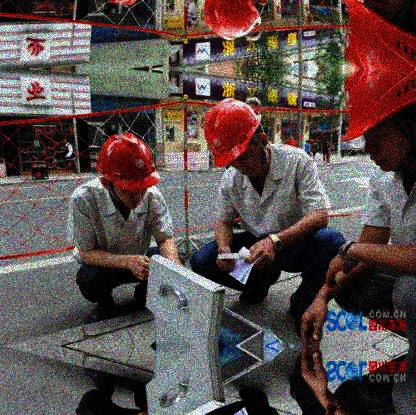helmet: (341, 69, 416, 171), (204, 98, 274, 183), (96, 135, 163, 209)
